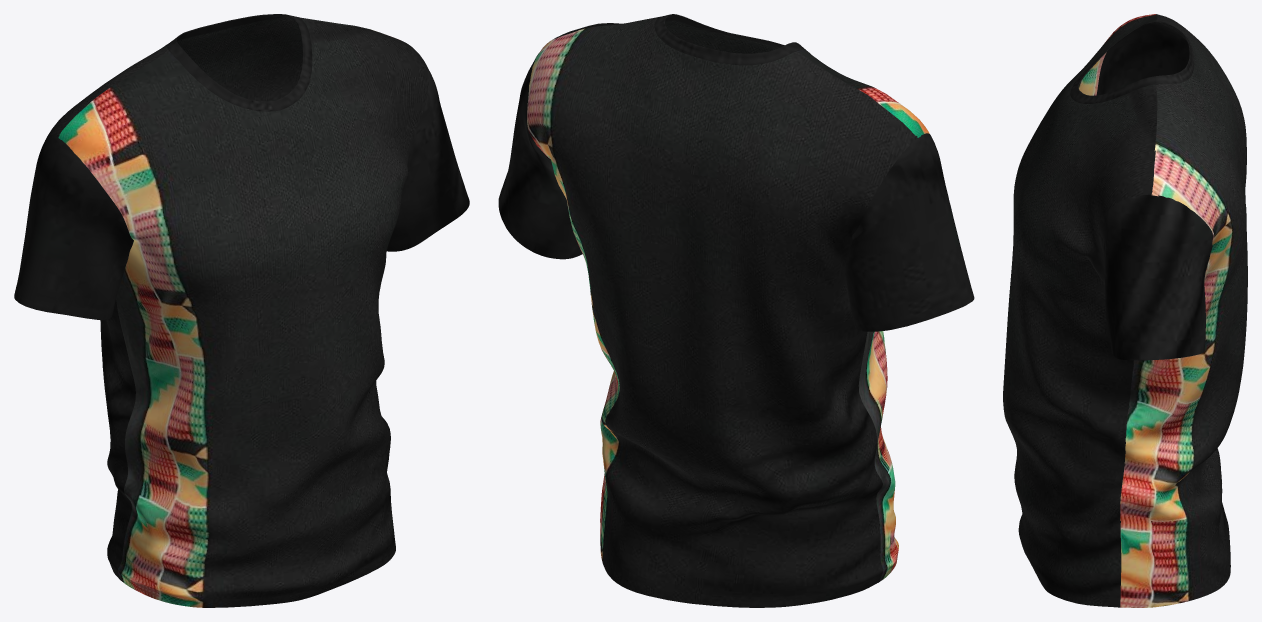
The model's file is black_kente_stripe.glb.
3 views of the same model, side by side, from view 1: azimuth 30°, elevation 25°; view 2: azimuth 150°, elevation 25°; view 3: azimuth 270°, elevation 25° (orthographic). The views are drawn at different scales.
Parts seen in each view (by area): view 1: T_Shirt_male; view 2: T_Shirt_male; view 3: T_Shirt_male.
Part boxes in pixels (<box>): T_Shirt_male: <box>14,14,469,607</box>; T_Shirt_male: <box>498,14,974,607</box>; T_Shirt_male: <box>1003,14,1247,607</box>.
Bounding box in the file's own units: 0.5502 × 0.613 × 0.269.
Materials: 1 (1 with a texture image).
